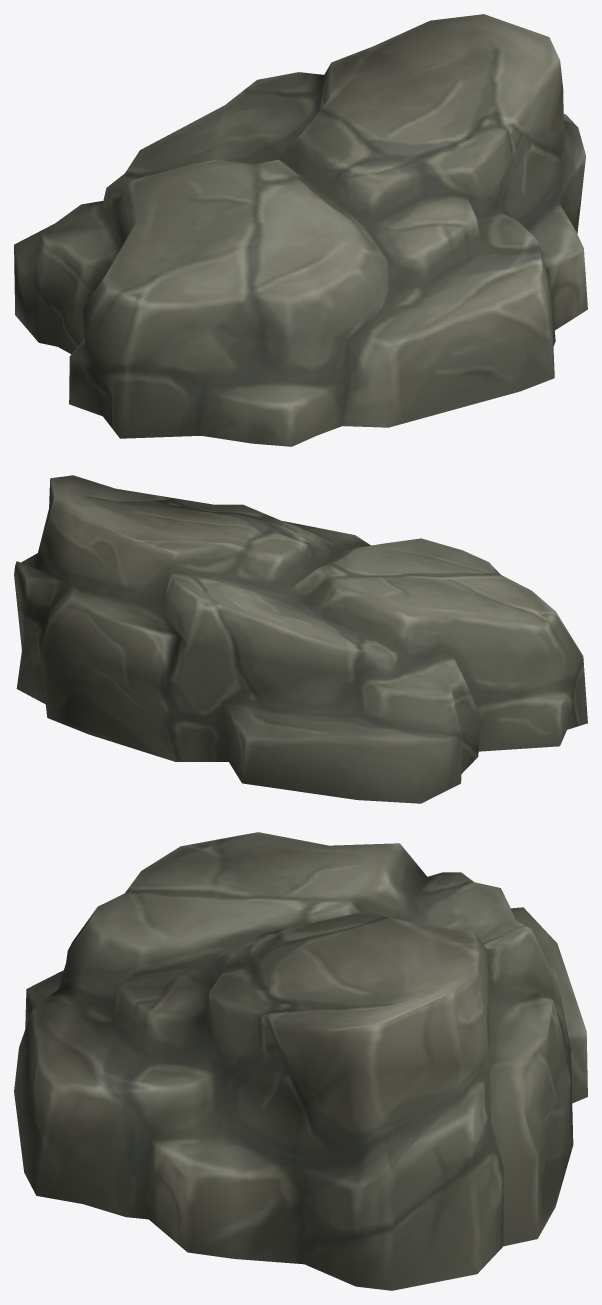
Rendered from forget_Stone01.FBX.
3 renders of one model, top to bottom at view 1: azimuth 30°, elevation 25°; view 2: azimuth 150°, elevation 25°; view 3: azimuth 270°, elevation 25°, orthographic. The views are drawn at different scales.
Visible parts, largest first — view 1: forget_Stone01; view 2: forget_Stone01; view 3: forget_Stone01.
Part boxes in pixels (x1,y1,x2,y2): forget_Stone01: [14, 14, 587, 446]; forget_Stone01: [14, 475, 587, 803]; forget_Stone01: [14, 832, 587, 1290].
Bounding box in the file's own units: 316 × 119 × 230.
